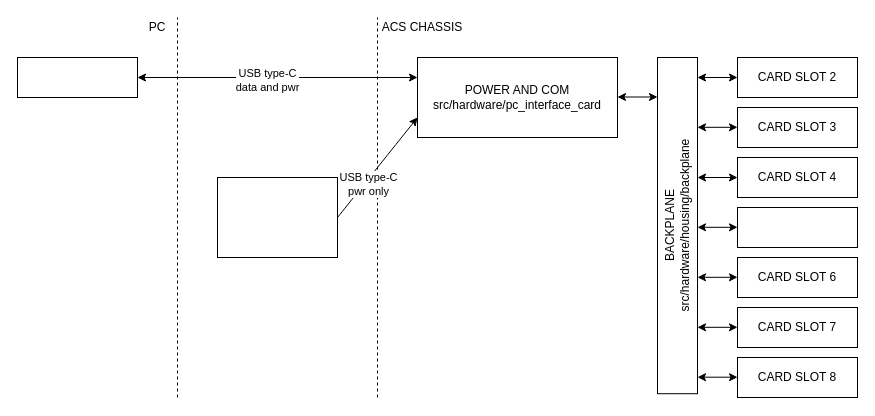
This 875x416 diagram has some shape labels left out. Here are the shapes that lost their labels. From the top down, the centre of each, then its label:
At point (77, 77): "ACS SOFTWARE src/software".
At point (277, 217): "EXT USB PD POWER ADPATER".
At point (797, 227): "CARD SLOT 5".
